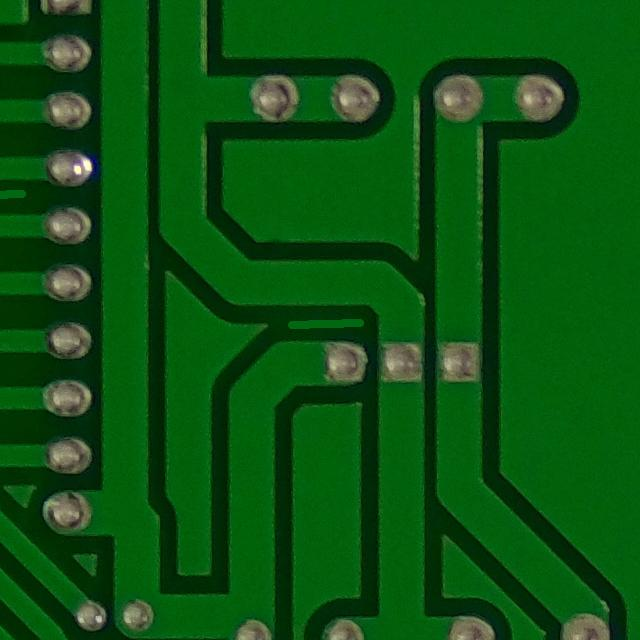spurious_copper: (269, 299, 372, 341)
